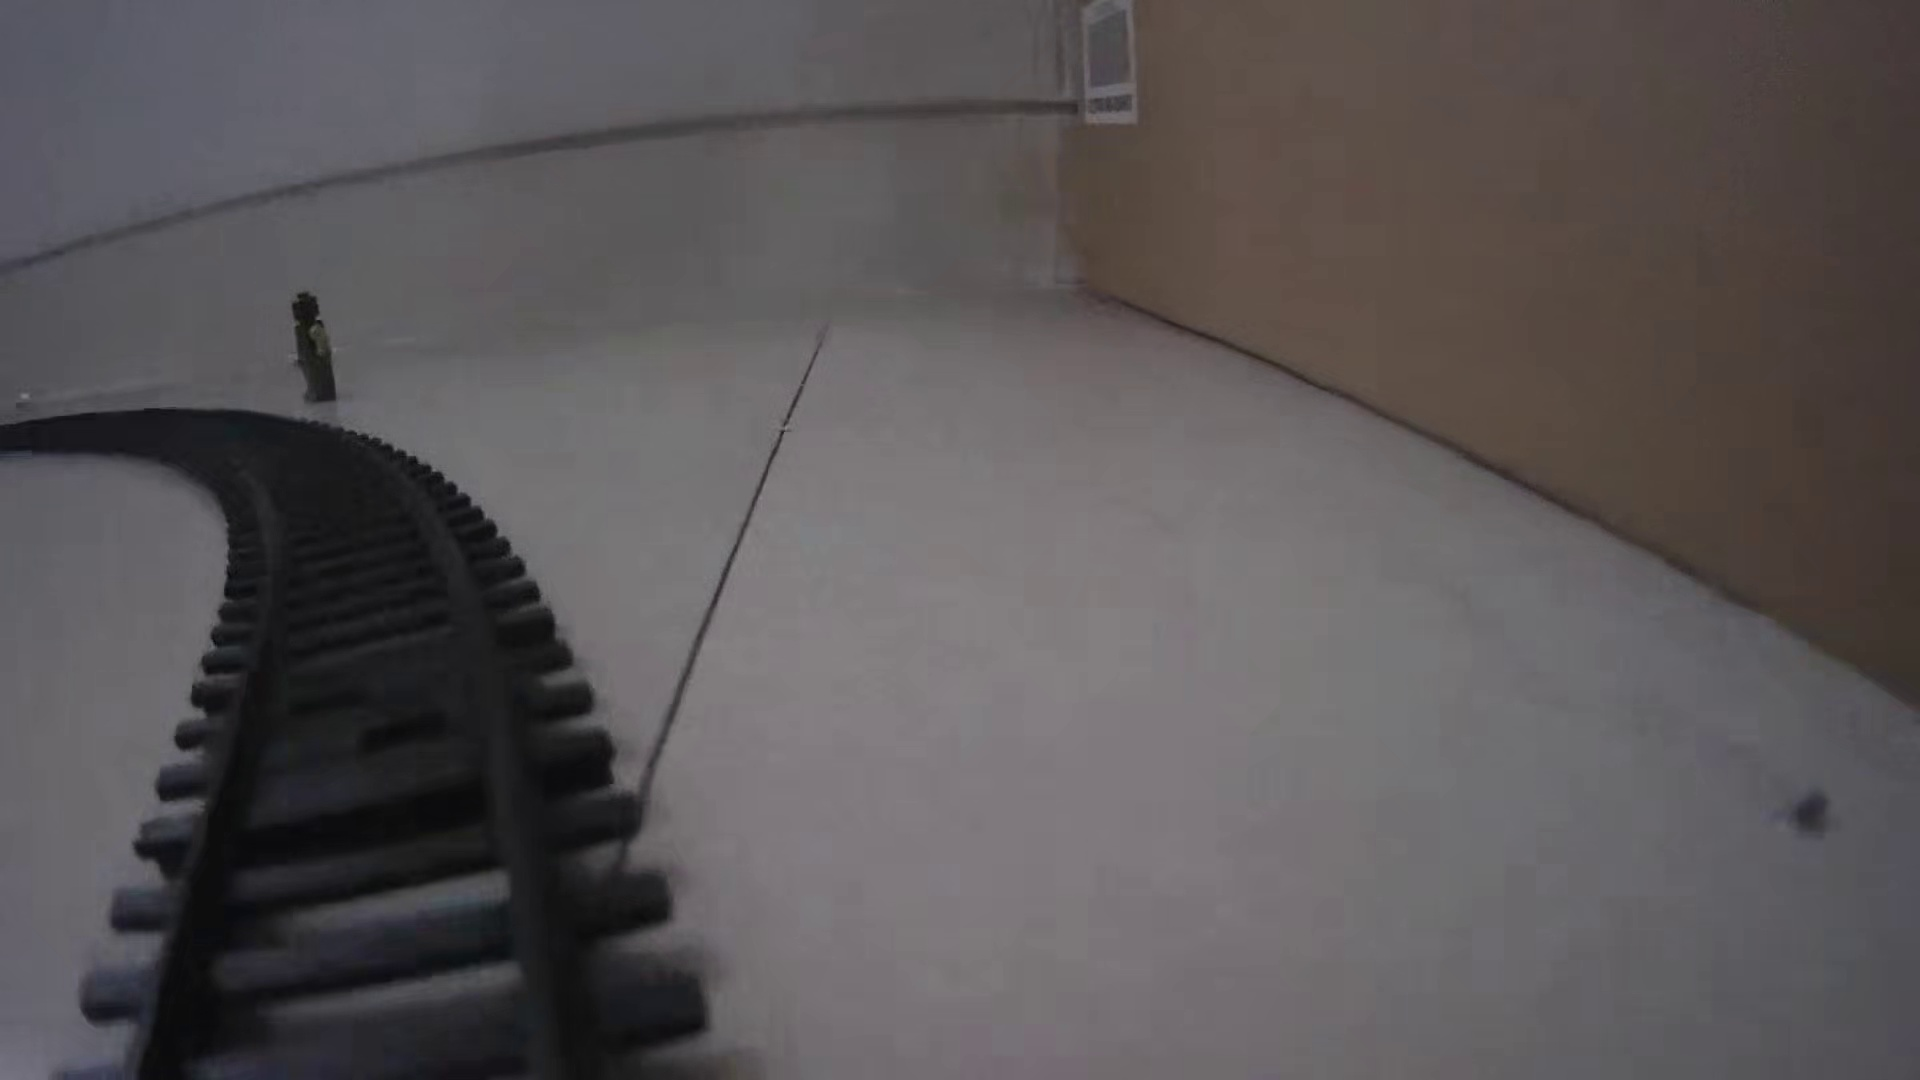people: (287, 290, 342, 407)
